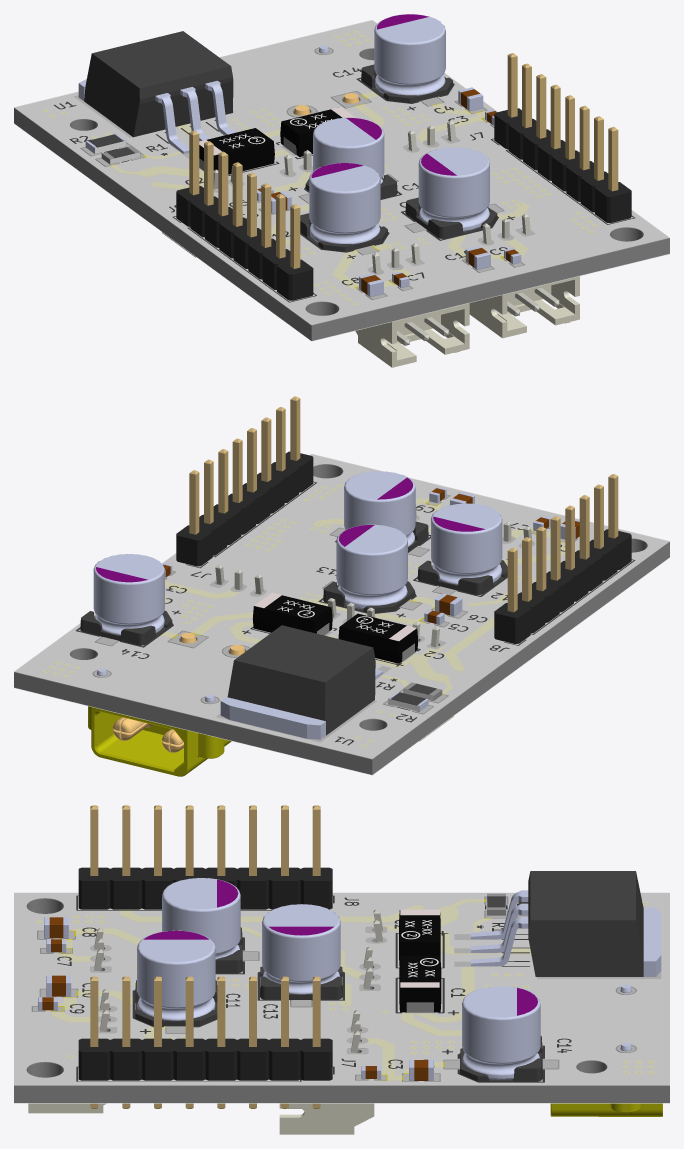
Rendered from fyp_DARTv2.glb.
3 views of the same model, one above another, from view 1: azimuth 30°, elevation 25°; view 2: azimuth 150°, elevation 25°; view 3: azimuth 270°, elevation 25° (orthographic). The views are drawn at different scales.
Parts seen in each view (by area): view 1: =>[0:1:1:18], =>[0:1:1:17], U1, J8, J7, C11, C14, C12, J6, J4, =>[0:1:1:13], C13 (+5 smaller); view 2: =>[0:1:1:18], =>[0:1:1:17], U1, J8, J7, C14, C12, J1, C13, C11, =>[0:1:1:13], =>[0:1:1:14] (+3 smaller); view 3: =>[0:1:1:18], =>[0:1:1:17], J7, U1, J8, C14, C13, C11, C12, =>[0:1:1:13], =>[0:1:1:14], =>[0:1:1:16] (+8 smaller).
Part boxes in pixels (x1,y1,x2,y2): =>[0:1:1:18]: (14, 21, 669, 340); =>[0:1:1:17]: (14, 20, 669, 341); U1: (78, 31, 235, 153); J8: (176, 130, 313, 300); J7: (494, 53, 631, 223); C11: (405, 147, 497, 238); C14: (361, 14, 453, 102); C12: (300, 163, 387, 251); J6: (355, 243, 469, 367); J4: (469, 213, 579, 338); =>[0:1:1:13]: (42, 31, 597, 304); C13: (305, 117, 397, 198); =>[0:1:1:18]: (14, 455, 669, 774); =>[0:1:1:17]: (14, 454, 669, 775); U1: (220, 625, 383, 739); J8: (494, 474, 631, 643); J7: (176, 396, 313, 566); C14: (80, 554, 172, 645); C12: (417, 503, 507, 594); J1: (88, 633, 245, 776); C13: (323, 524, 415, 613); C11: (337, 471, 428, 552); =>[0:1:1:13]: (44, 485, 564, 746); =>[0:1:1:14]: (93, 495, 576, 742); =>[0:1:1:18]: (14, 893, 669, 1102); =>[0:1:1:17]: (14, 892, 669, 1103); J7: (78, 976, 332, 1108); U1: (470, 871, 661, 976); J8: (78, 805, 332, 909); C14: (460, 986, 542, 1081); C13: (260, 904, 342, 1000); C11: (135, 930, 217, 1026); C12: (162, 878, 242, 973); =>[0:1:1:13]: (36, 899, 654, 1080); =>[0:1:1:14]: (33, 897, 661, 1081); =>[0:1:1:16]: (57, 895, 571, 1082).
Size of the model in its own units: 0.0365 by 0.0152 by 0.0525.
